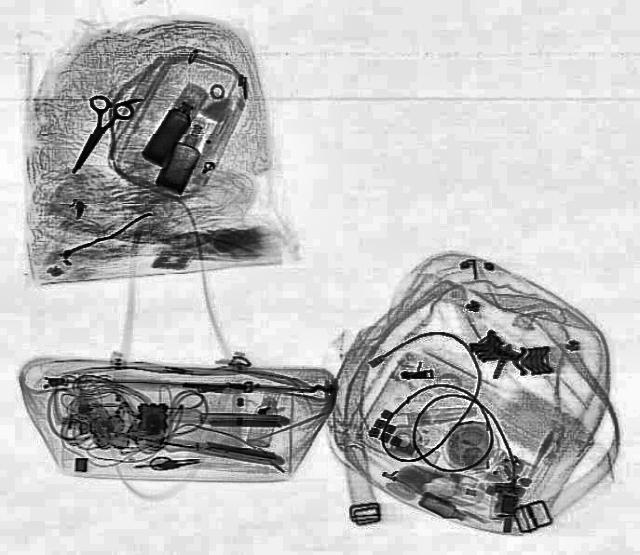Scissors: (51, 91, 136, 181)
